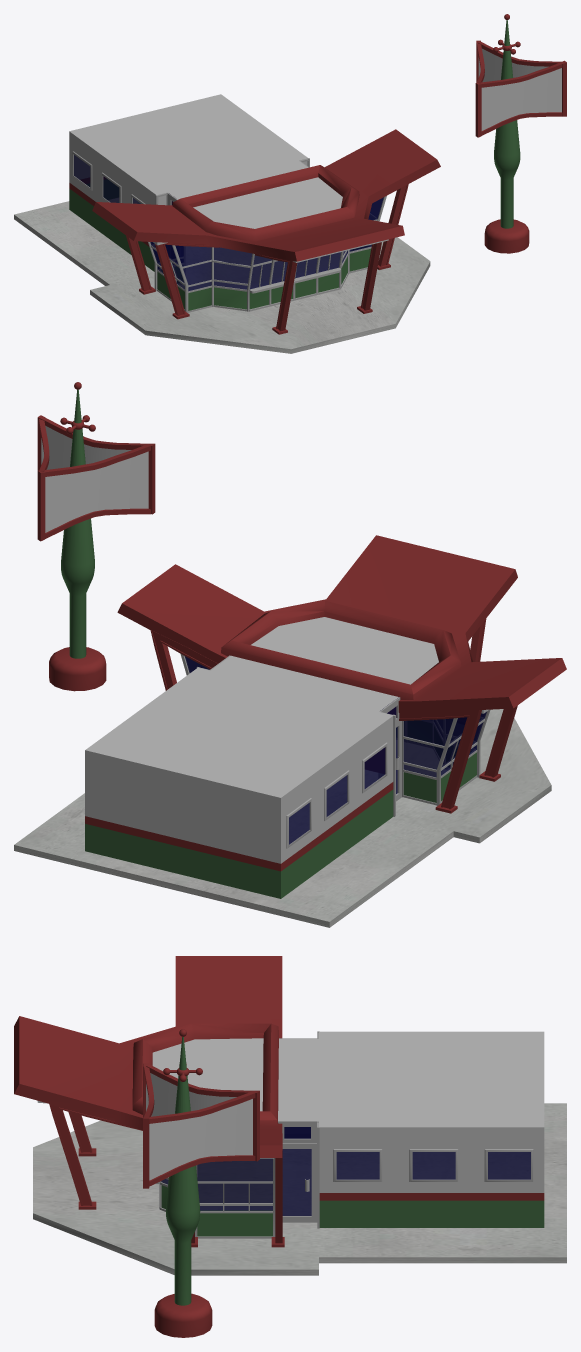
File: Kiosk1.obj
The picture shows the model from 3 angles, top to bottom: view 1: azimuth 30°, elevation 25°; view 2: azimuth 150°, elevation 25°; view 3: azimuth 270°, elevation 25°; orthographic projection. The views are drawn at different scales.
Visible parts, largest first — view 1: g sodawhite_, g sodared_, g sodacement_, g sodagreen, g sodaglass_, g sodasilver_; view 2: g sodawhite_, g sodared_, g sodacement_, g sodagreen, g sodaglass_, g sodasilver_; view 3: g sodawhite_, g sodacement_, g sodared_, g sodagreen, g sodaglass_, g sodasilver_.
Boxes of the visible parts, box(x1,y1,x2,y2) form: g sodawhite_: box(69, 48, 561, 262); g sodared_: box(69, 14, 566, 334); g sodacement_: box(14, 198, 430, 353); g sodagreen: box(69, 20, 520, 310); g sodaglass_: box(74, 155, 383, 291); g sodasilver_: box(72, 151, 386, 312); g sodawhite_: box(41, 426, 488, 863); g sodared_: box(37, 382, 566, 871); g sodacement_: box(14, 709, 551, 927); g sodagreen: box(61, 389, 476, 898); g sodaglass_: box(184, 656, 486, 844); g sodasilver_: box(180, 654, 490, 848); g sodawhite_: box(37, 1031, 544, 1192); g sodacement_: box(33, 1103, 566, 1275); g sodared_: box(14, 956, 544, 1337); g sodagreen: box(161, 1037, 544, 1305); g sodaglass_: box(161, 1127, 530, 1215); g sodasilver_: box(156, 1031, 533, 1238).
Size of the model in its own units: 20.65 by 10.79 by 18.25.
